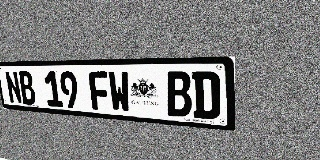1: (43, 71, 63, 107)
9: (59, 71, 80, 109)
B: (165, 71, 192, 118), (17, 71, 37, 105)
D: (192, 71, 220, 120)
F: (88, 71, 111, 111)
N: (4, 71, 23, 104)
W: (108, 71, 131, 113)
